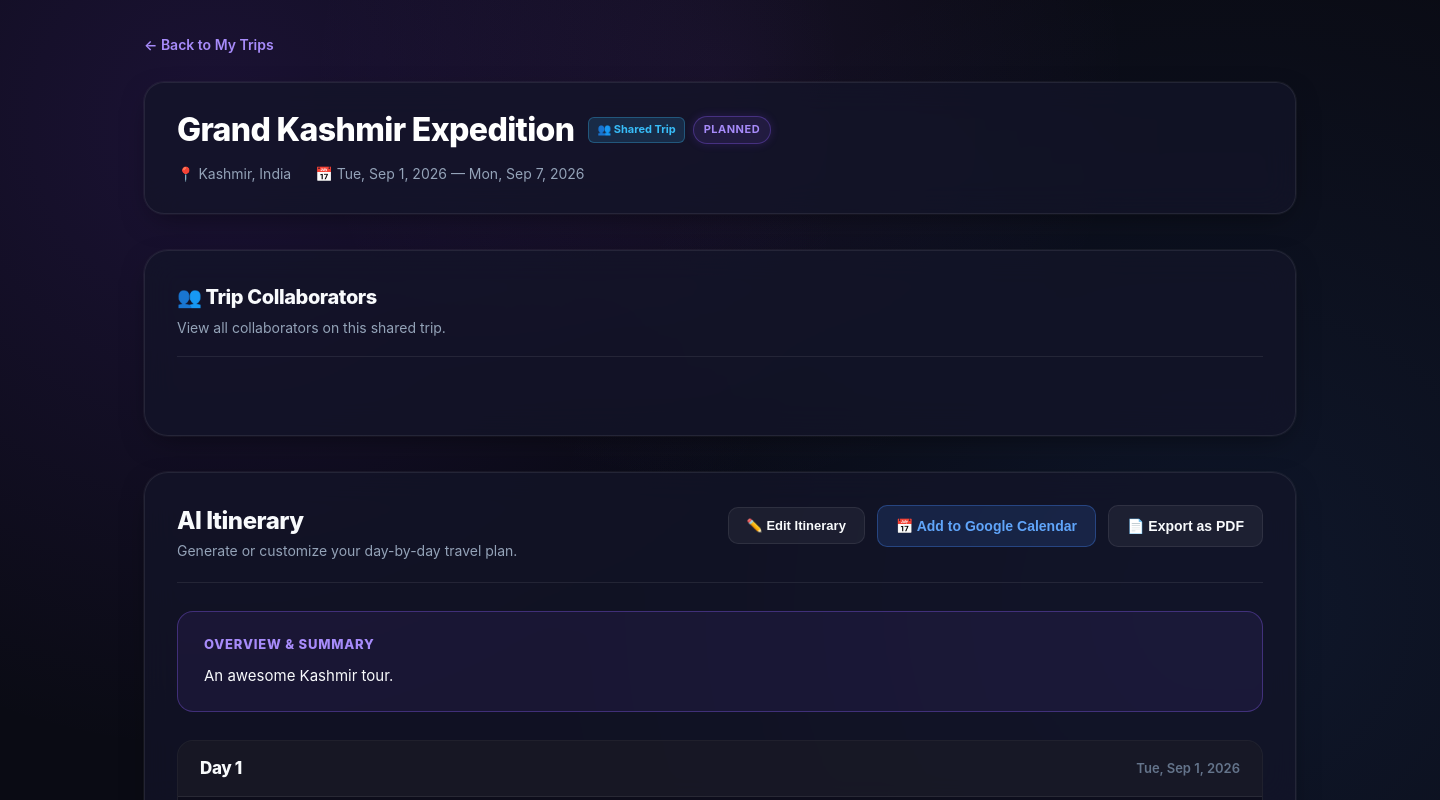
Test case: TripDetailsPage Google Calendar & PDF Export › already-synced response renders 'Trip Already Synced' banner
Click the button with test id "add-google-calendar-btn". click: x=986, y=526
box: left=877, top=505, right=1096, bottom=547
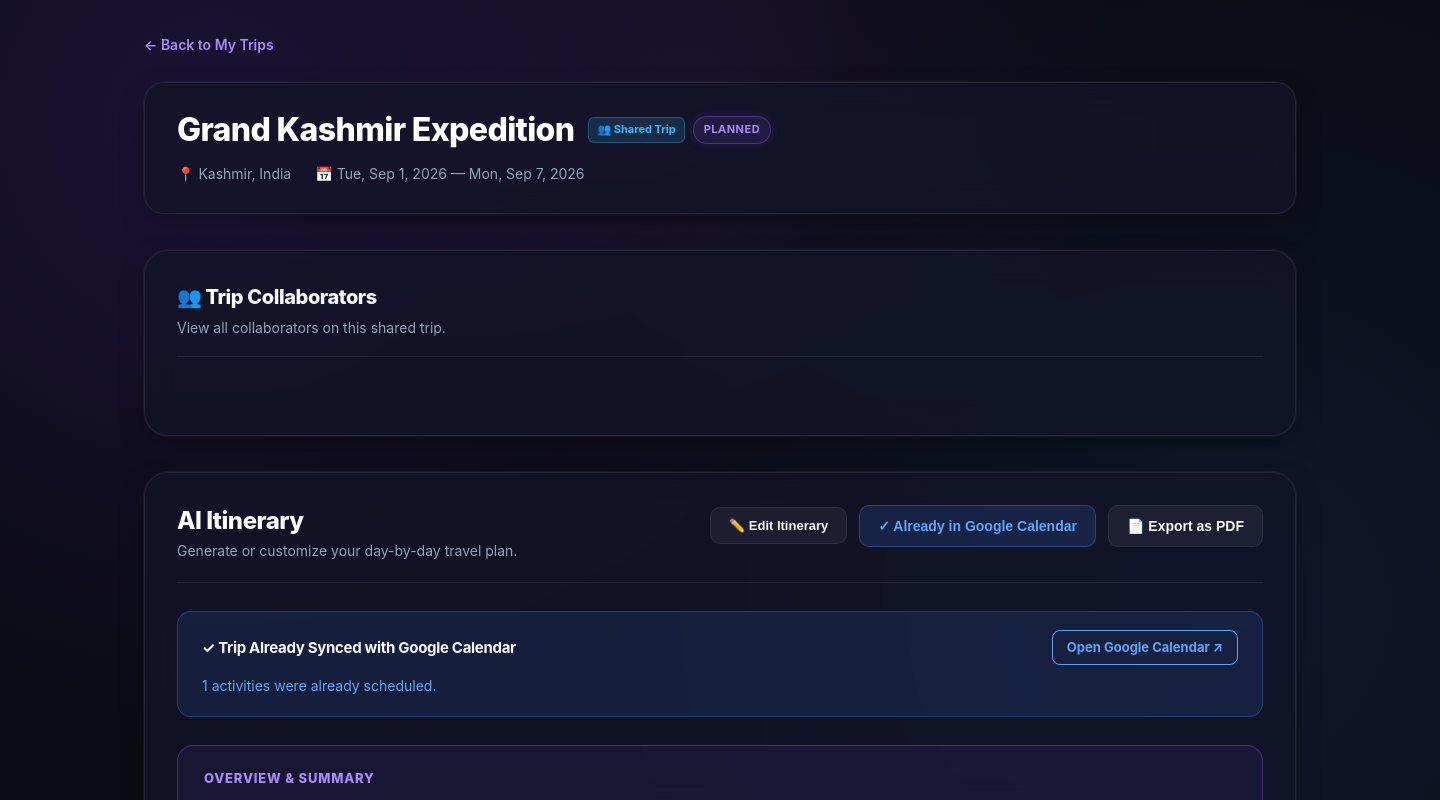
Check: the element with test id "calendar-result-banner" shows "Trip Already Synced with Google Calendar", box left=202, top=638, right=516, bottom=657
Check: the element with test id "calendar-result-banner" shows "1 activities were already scheduled", box left=202, top=677, right=436, bottom=694
